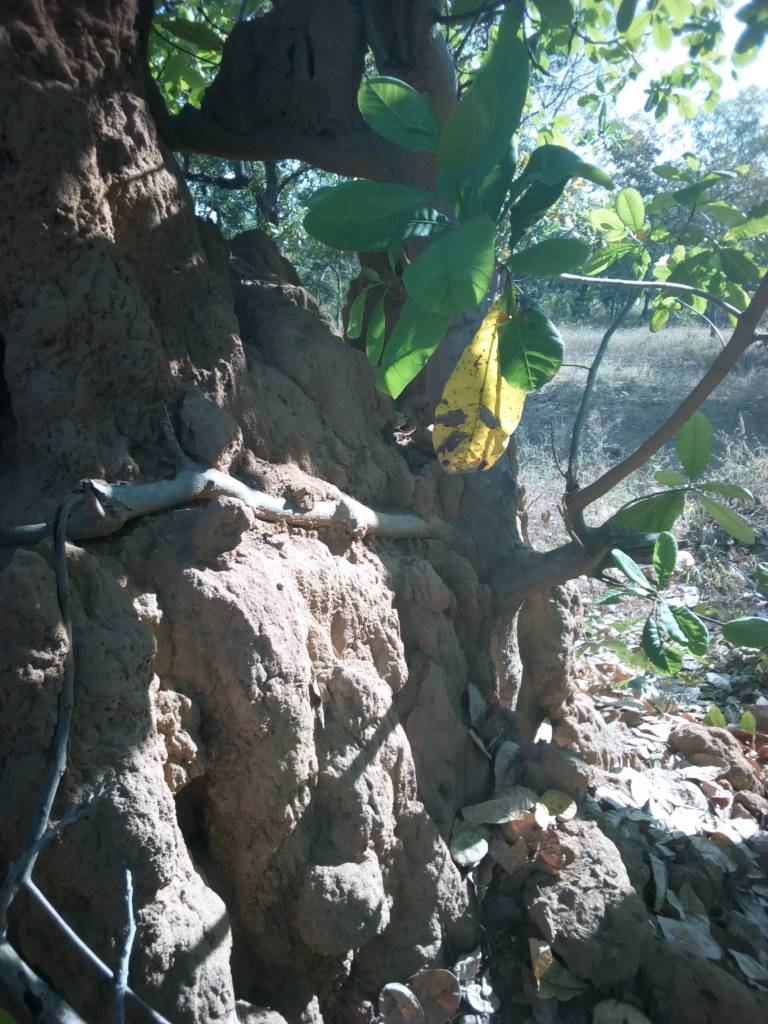Virose: (1, 31, 519, 996)
